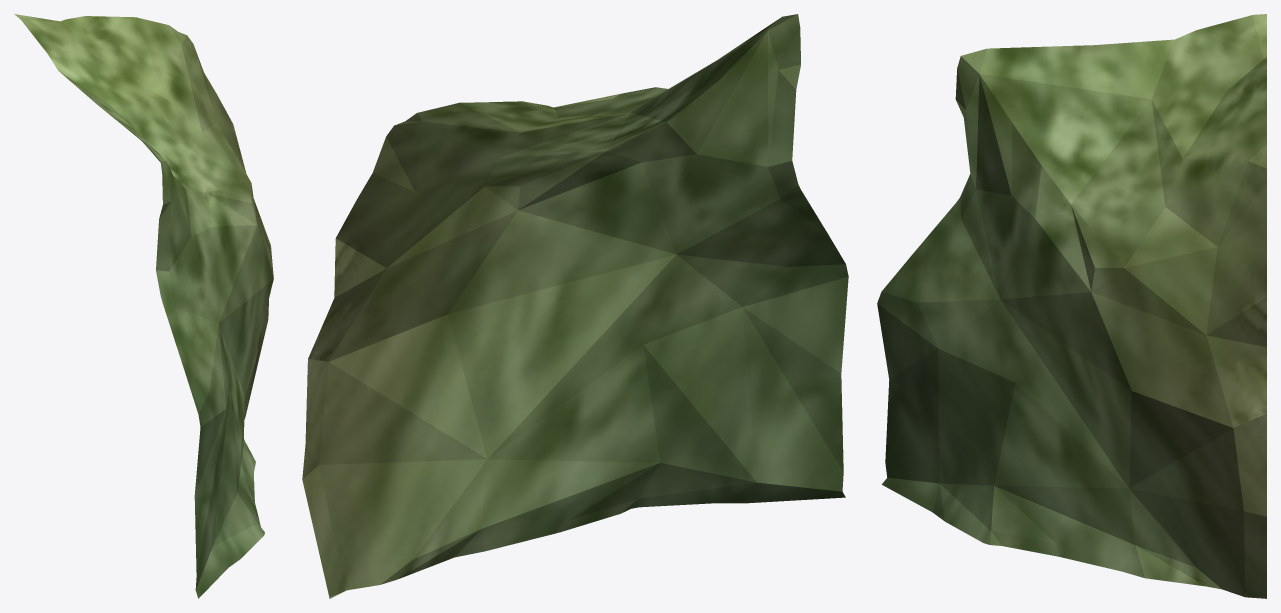
3 views of the same model, side by side, from view 1: azimuth 30°, elevation 25°; view 2: azimuth 150°, elevation 25°; view 3: azimuth 270°, elevation 25° (orthographic). The views are drawn at different scales.
Bounding box in the file's own units: 0.8167 × 1.43 × 1.07.
1 material, 1 textured.
